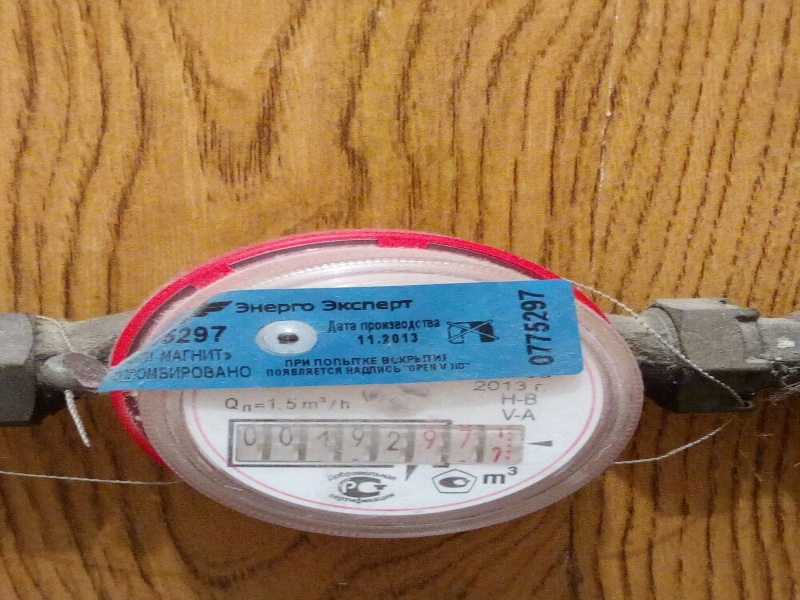meter: (216, 423, 516, 466)
